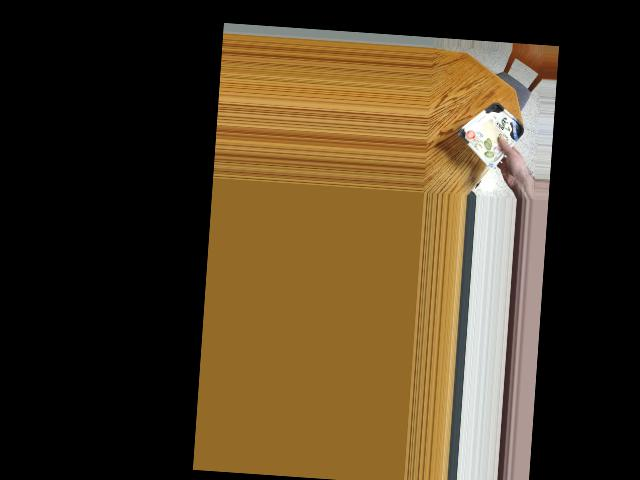cheese: (463, 108, 521, 150)
